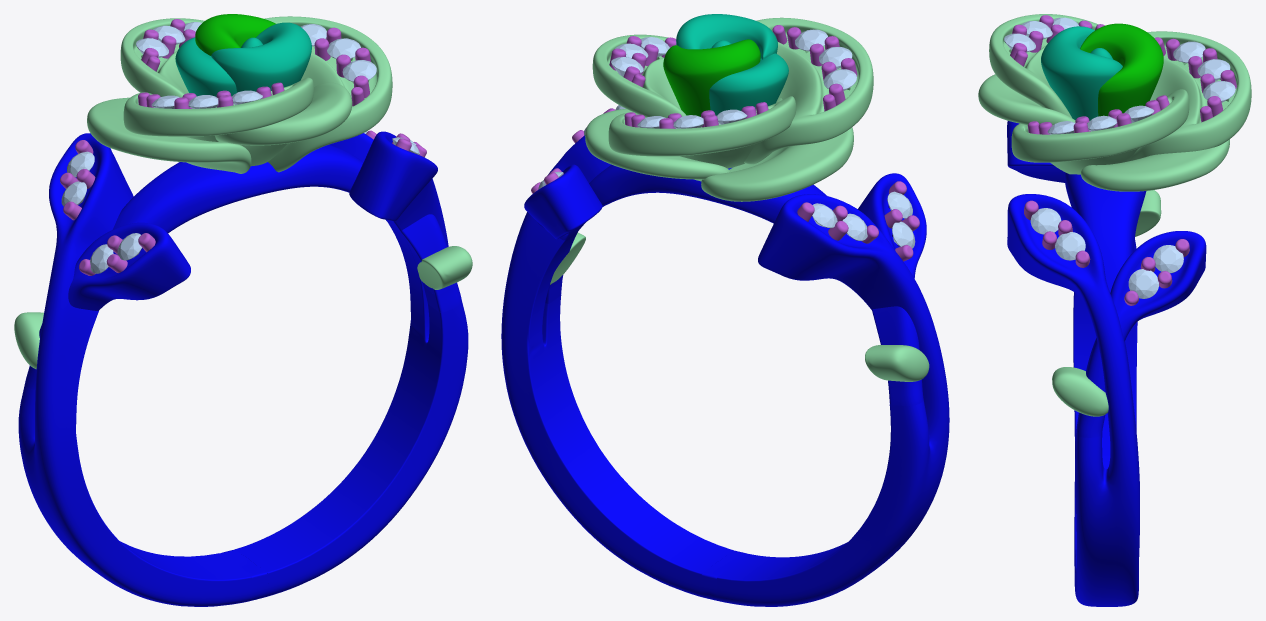
3 views of the same model, side by side, from view 1: azimuth 30°, elevation 25°; view 2: azimuth 150°, elevation 25°; view 3: azimuth 270°, elevation 25° (orthographic). The views are drawn at different scales.
Parts seen in each view (by area): view 1: OTROS DISEñOS1_1.3dm; view 2: OTROS DISEñOS1_1.3dm; view 3: OTROS DISEñOS1_1.3dm, Diamond_Round (×7).
Boxes of the visible parts, bbox=[...] form: OTROS DISEñOS1_1.3dm: bbox=[14, 14, 472, 606]; OTROS DISEñOS1_1.3dm: bbox=[501, 14, 949, 606]; OTROS DISEñOS1_1.3dm: bbox=[978, 14, 1251, 606]; Diamond_Round (×7): bbox=[1030, 41, 1235, 298].
Bounding box in the file's own units: 2.35 × 2.95 × 1.34.
